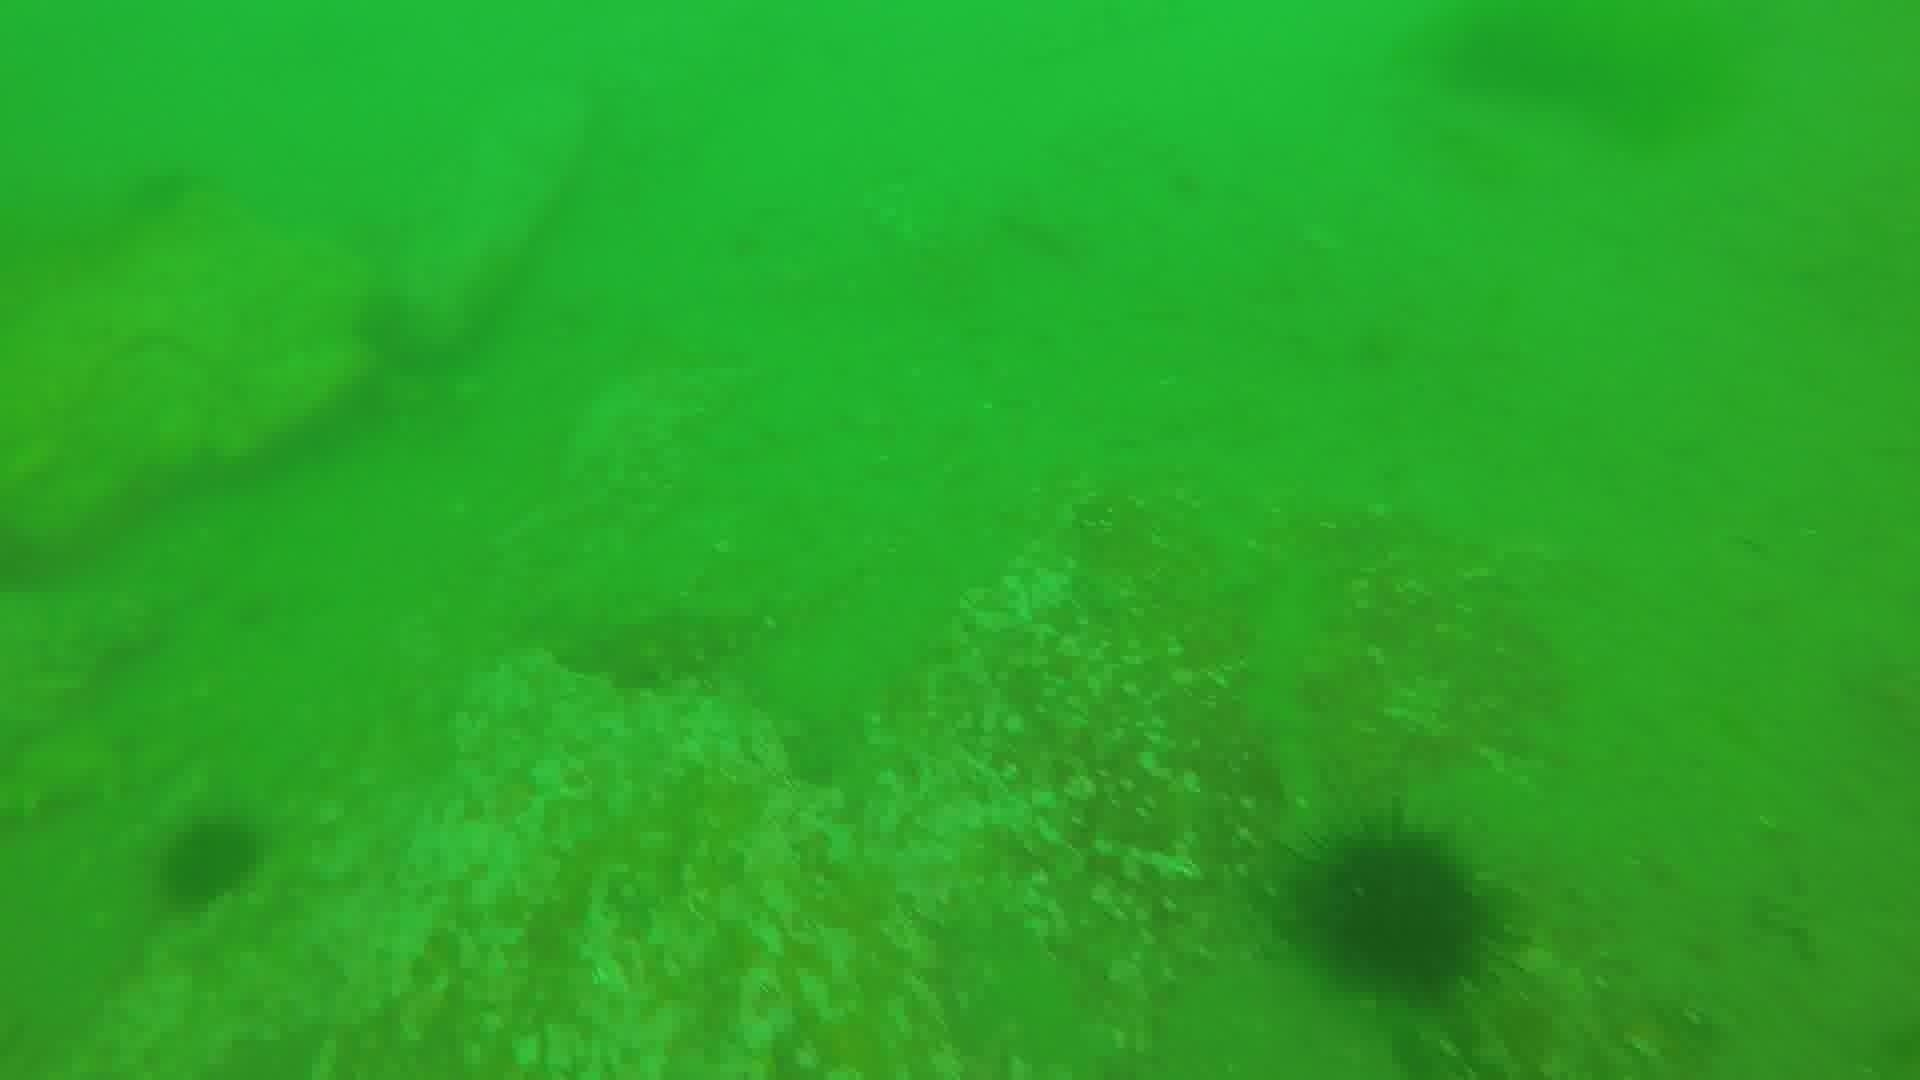echinus: (1291, 816, 1502, 1004), (152, 811, 266, 916)
holothurian: (1228, 534, 1377, 823), (517, 589, 764, 694)
